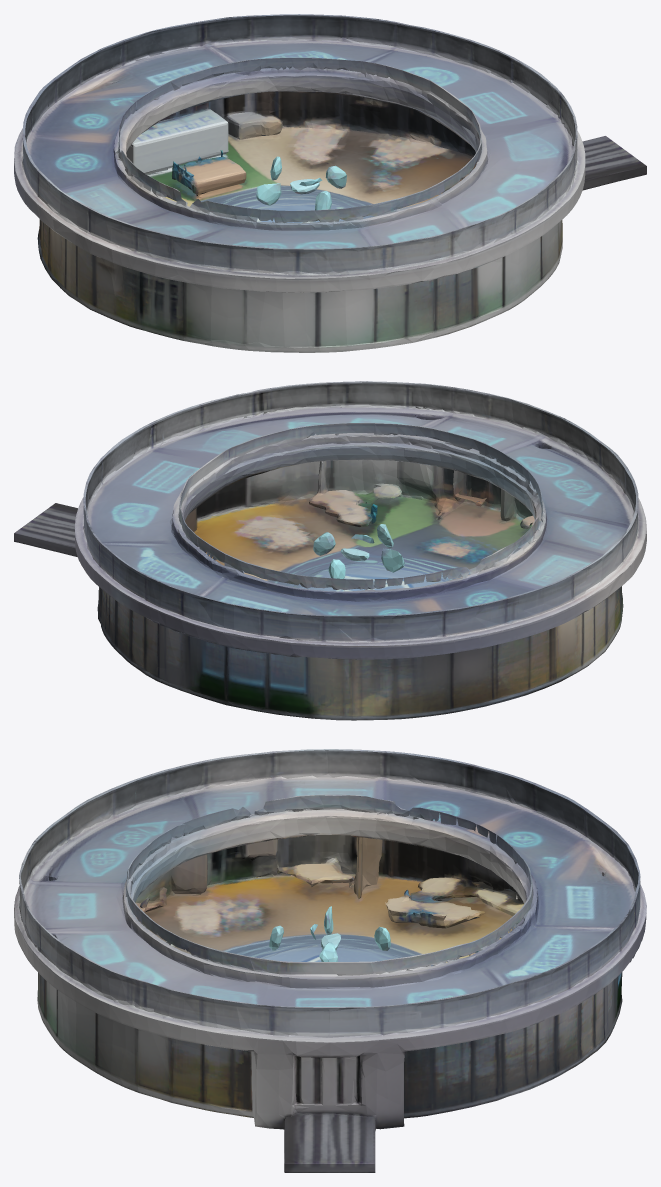
The model's file is photoroom2.glb.
3 renders of one model, top to bottom at view 1: azimuth 30°, elevation 25°; view 2: azimuth 150°, elevation 25°; view 3: azimuth 270°, elevation 25°, orthographic. The views are drawn at different scales.
Parts seen in each view (by area): view 1: world; view 2: world; view 3: world.
Boxes of the visible parts, x1,y1,x2,y2 form: world: [14, 14, 646, 352]; world: [14, 381, 646, 720]; world: [14, 749, 646, 1172].
Size of the model in its own units: 1 by 0.1839 by 0.8674.
1 material, 1 textured.
